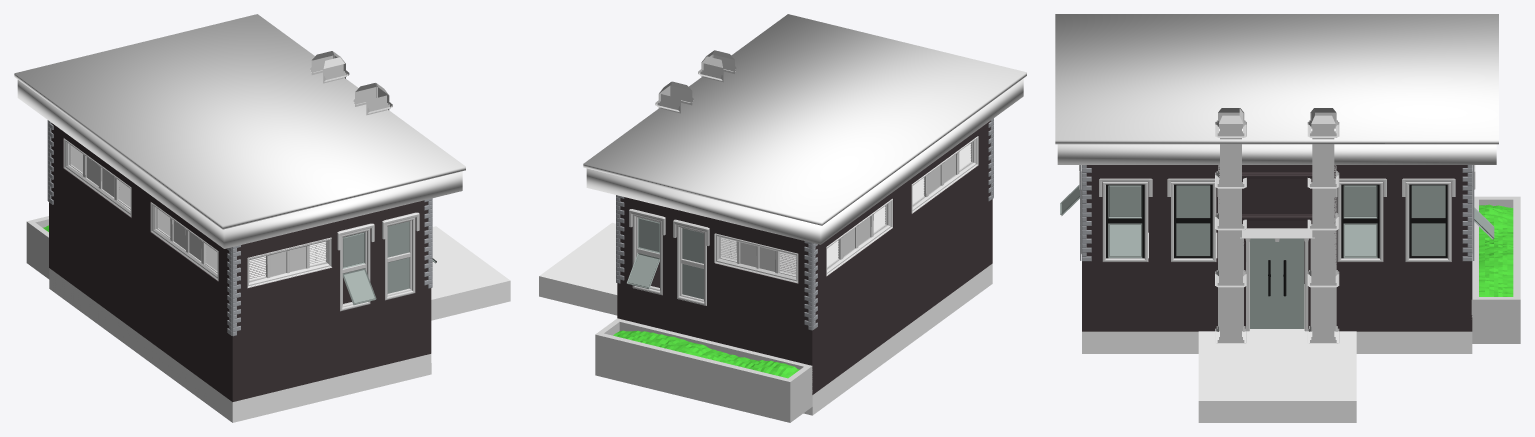
The model's file is cesuo.gltf.
The picture shows the model from 3 angles, left to right: view 1: azimuth 30°, elevation 25°; view 2: azimuth 150°, elevation 25°; view 3: azimuth 270°, elevation 25°; orthographic projection. The views are drawn at different scales.
Parts seen in each view (by area): view 1: 屋顶, 墙, 地基, 立方体.014, 四叶窗内框.004, 活动窗.003, 玻璃.003, 平面, 四叶窗内框.002, 四叶窗内框, 花台, 四叶窗内框.005 (+7 smaller); view 2: 屋顶, 墙, 花台, 地基, 平面.011, 立方体.014, 四叶窗内框.004, 活动窗.001, 平面, 玻璃.001, 四叶窗内框.002, 四叶窗内框 (+8 smaller); view 3: 屋顶, 墙, 地基, 平面, 玻璃门, 花台, 平面.011, 活动窗, 活动窗.002, 玻璃, 玻璃.002, 立方体.014 (+11 smaller).
Part boxes in pixels (x1=…): 屋顶: x1=14, y1=14, x2=465, y2=248; 墙: x1=49, y1=123, x2=431, y2=401; 地基: x1=49, y1=226, x2=510, y2=422; 立方体.014: x1=47, y1=120, x2=432, y2=336; 四叶窗内框.004: x1=248, y1=238, x2=330, y2=286; 活动窗.003: x1=343, y1=232, x2=376, y2=305; 玻璃.003: x1=387, y1=221, x2=409, y2=293; 平面: x1=311, y1=51, x2=389, y2=115; 四叶窗内框.002: x1=152, y1=204, x2=217, y2=278; 四叶窗内框: x1=65, y1=141, x2=130, y2=214; 花台: x1=26, y1=216, x2=49, y2=279; 四叶窗内框.005: x1=249, y1=241, x2=326, y2=280; 屋顶: x1=583, y1=14, x2=1026, y2=244; 墙: x1=617, y1=121, x2=992, y2=394; 花台: x1=595, y1=318, x2=812, y2=422; 地基: x1=539, y1=222, x2=992, y2=415; 平面.011: x1=613, y1=330, x2=799, y2=378; 立方体.014: x1=616, y1=118, x2=993, y2=330; 四叶窗内框.004: x1=716, y1=234, x2=797, y2=281; 活动窗.001: x1=627, y1=217, x2=659, y2=289; 平面: x1=658, y1=50, x2=734, y2=113; 玻璃.001: x1=682, y1=228, x2=703, y2=299; 四叶窗内框.002: x1=912, y1=138, x2=976, y2=210; 四叶窗内框: x1=827, y1=201, x2=890, y2=273; 屋顶: x1=1055, y1=14, x2=1498, y2=164; 墙: x1=1082, y1=165, x2=1472, y2=331; 地基: x1=1082, y1=232, x2=1472, y2=422; 平面: x1=1218, y1=108, x2=1336, y2=336; 玻璃门: x1=1250, y1=238, x2=1304, y2=328; 花台: x1=1471, y1=196, x2=1520, y2=343; 平面.011: x1=1479, y1=204, x2=1513, y2=296; 活动窗: x1=1343, y1=185, x2=1377, y2=258; 活动窗.002: x1=1108, y1=185, x2=1142, y2=258; 玻璃: x1=1411, y1=185, x2=1445, y2=255; 玻璃.002: x1=1176, y1=185, x2=1210, y2=255; 立方体.014: x1=1080, y1=165, x2=1474, y2=261.
Size of what is drawn, in the model's own units: 89.34 by 56 by 95.31.
7 materials, 1 textured.
